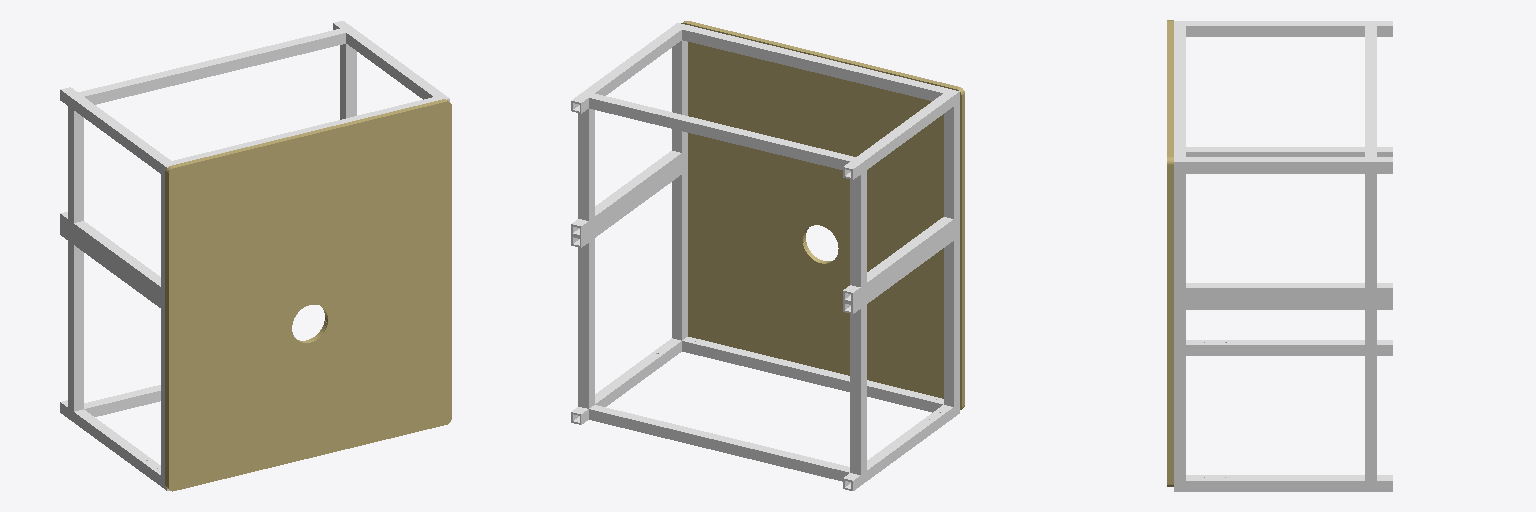
The robot description file, URDF, robot "wood_table":
<?xml version="1.0" encoding="utf-8"?>
<!-- This URDF was automatically created by SolidWorks to URDF Exporter! Originally created by [author] ([email redacted]) 
     Commit Version: 1.6.0-4-g7f85cfe  Build Version: 1.6.7995.38578
     For more information, please see http://wiki.ros.org/sw_urdf_exporter -->
<robot
  name="wood_table">
  <link
    name="base_link">
    <contact>
      <soft_cfm value="0.0"/>
      <soft_erp value="0.2"/>
  </contact>
    <inertial>
      <origin
        xyz="0.62688 0.7221 0.78762"
        rpy="0 0 0" />
      <mass
        value="13.023" />
      <inertia
        ixx="1.7505"
        ixy="0.0002588"
        ixz="-0.00037071"
        iyy="3.9252"
        iyz="0.0012951"
        izz="3.6809" />
    </inertial>
    <visual>
      <origin
        xyz="0 0 0"
        rpy="0 0 0" />
      <geometry>
        <mesh
          filename="package://wood_table/meshes/base_link.STL" />
      </geometry>
      <material
        name="metal">
        <color
          rgba="0.96078 0.96078 0.96471 1" />
      </material>
    </visual>
    <collision>
      <origin
        xyz="0 0 0"
        rpy="0 0 0" />
      <geometry>
        <mesh
          filename="package://wood_table/meshes/base_link.STL" />
      </geometry>
      <contact>
      <soft_cfm value="0.0"/>
      <soft_erp value="0.2"/>
  </contact>
    </collision>
  </link>
  <link
    name="link1">
    <inertial>
      <origin
        xyz="-1.8294E-07 0.0011985 0.011"
        rpy="0 0 0" />
      <mass
        value="28.694" />
      <inertia
        ixx="0.91853"
        ixy="1.2557E-06"
        ixz="-5.3099E-19"
        iyy="2.9267"
        iyz="1.4963E-18"
        izz="3.8429" />
    </inertial>
    <visual>
      <origin
        xyz="0 0 0"
        rpy="0 0 0" />
      <geometry>
        <mesh
          filename="package://wood_table/meshes/link1.STL" />
      </geometry>
      <material
        name="wood">
        <color
          rgba="0.8 0.74 0.52 1" />
      </material>
    </visual>
    <collision convex_hull="yes" >
      <origin
        xyz="0 0 0"
        rpy="0 0 0" />
      <geometry>
        <mesh
          filename="package://wood_table/meshes/link1.STL" />
      </geometry>
      
      <contact>
      <soft_cfm value="0.0"/>
      <soft_erp value="0.2"/>
  </contact>
    </collision>
  </link>
  <joint
    name="joint1"
    type="fixed">
    <origin
      xyz="0.61948 -1.1344 0.70815"
      rpy="1.5708 0 0" />
    <parent
      link="base_link" />
    <child
      link="link1" />
    <axis
      xyz="0 0 0" />
  </joint>
</robot>

--- Render facts (derived) ---
Views: 3 orthographic renders of the robot side by side, from view 1: azimuth 30°, elevation 25°; view 2: azimuth 150°, elevation 25°; view 3: azimuth 270°, elevation 25°.
Model wood_table with 2 links and 1 joints (1 fixed), rooted at base_link, posed every joint at zero.
Links seen in each view (by area): view 1: link1, base_link; view 2: link1, base_link; view 3: base_link, link1.
Boxes of the visible links, x1,y1,x2,y2 form: link1: (165,99,451,491); base_link: (60,21,449,490); link1: (681,21,964,409); base_link: (571,23,959,490); base_link: (1174,21,1392,491); link1: (1167,20,1173,486).
Bounding box of the posed robot: 1.11 × 0.7421 × 1.2 m (x, y, z).
Meshes: 2 distinct files referenced, 2 mesh visuals loaded (2 binary STL).